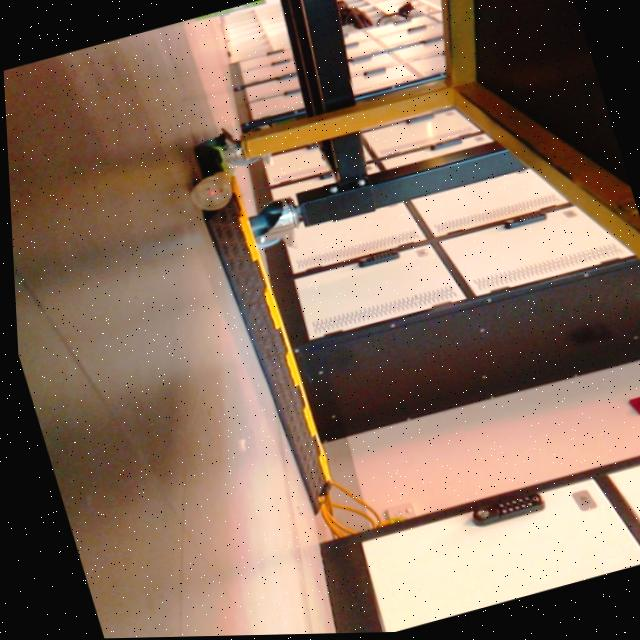greenpringles: (178, 0, 284, 42)
